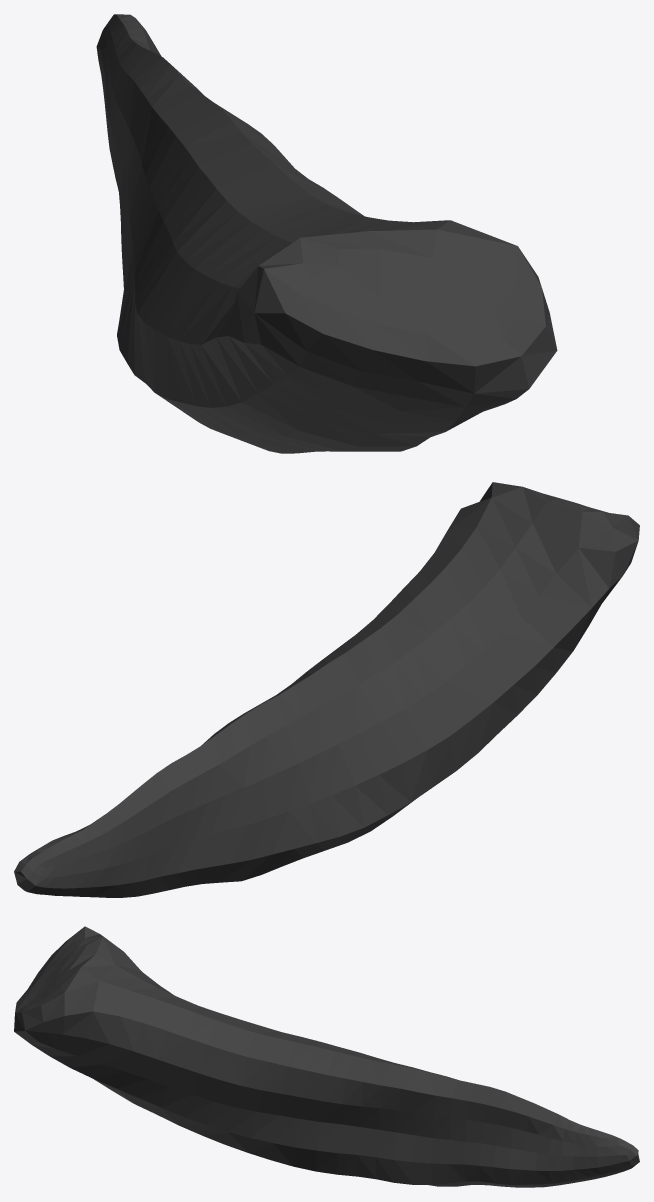
Rendered from L_mand_I2_copy000.glb.
3 views of the same model, one above another, from view 1: azimuth 30°, elevation 25°; view 2: azimuth 150°, elevation 25°; view 3: azimuth 270°, elevation 25° (orthographic). The views are drawn at different scales.
Visible parts, largest first — view 1: L_mand_I2_copy000; view 2: L_mand_I2_copy000; view 3: L_mand_I2_copy000.
Part boxes in pixels (x1,y1,x2,y2): L_mand_I2_copy000: [96, 14, 557, 453]; L_mand_I2_copy000: [14, 482, 639, 897]; L_mand_I2_copy000: [14, 926, 639, 1187].
Size of the model in its own units: 0.1186 by 0.1017 by 0.2983.
Materials: 1 (1 with a texture image).
